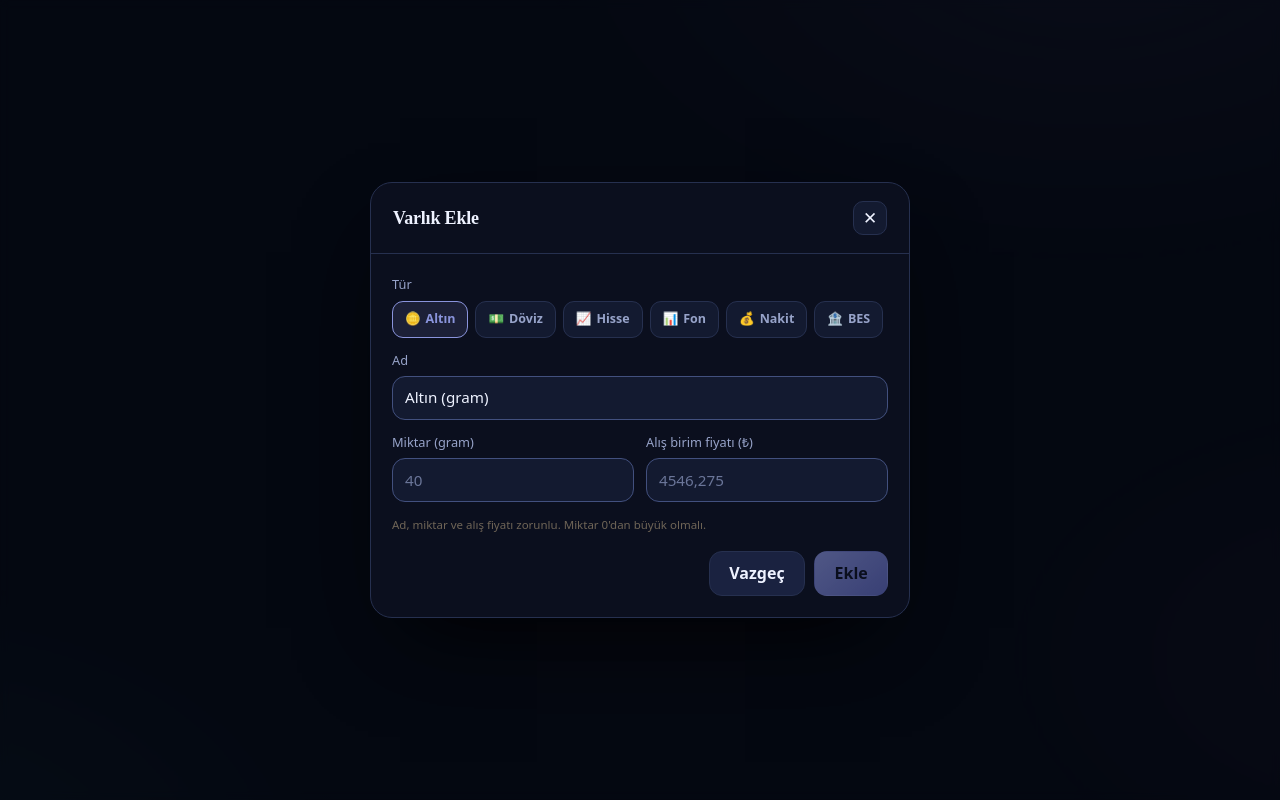
AddHoldingDialog › döviz: USD/EUR seçimi ad ve birimi otomatik ayarlar
Click the radio button labelled "💵 Döviz" at (516, 319), box [476,301,556,338]
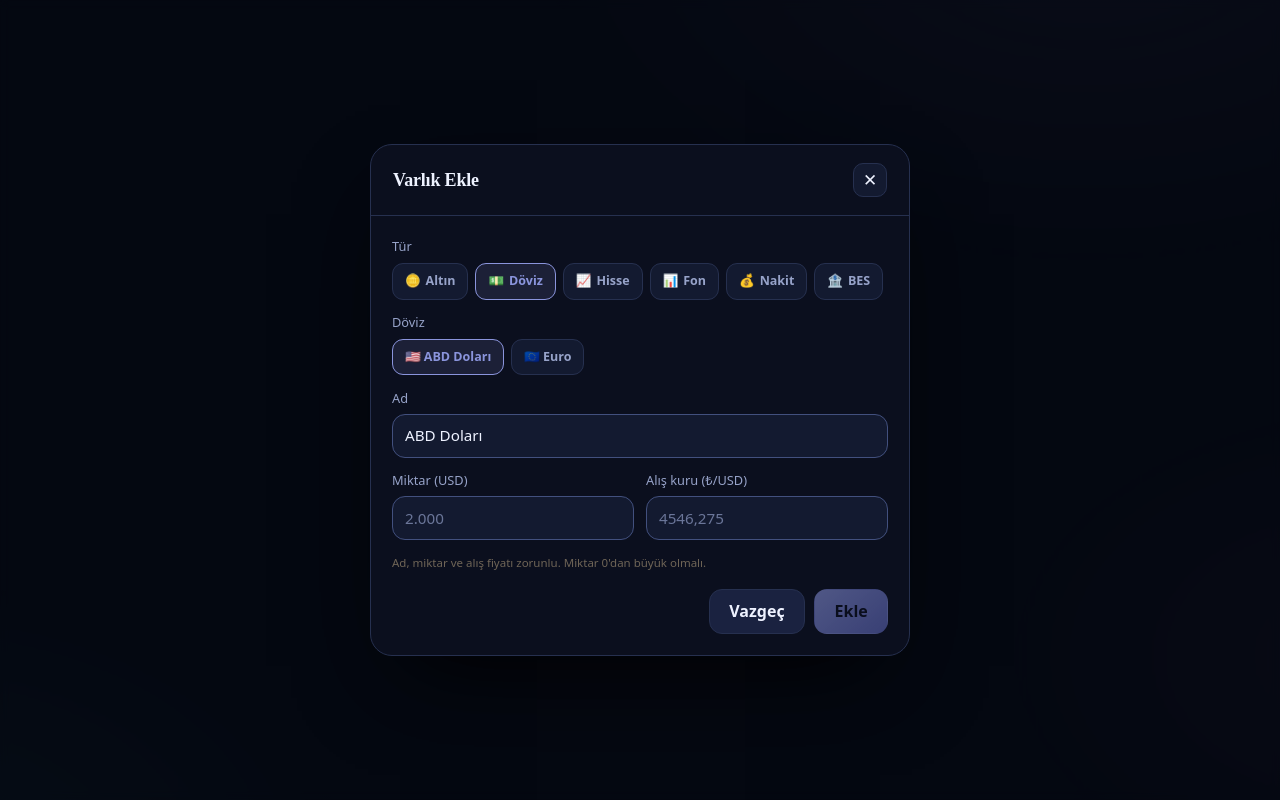
Expected: the field labelled "Miktar (USD)" is shown, [392,496,634,540]
Expected: the field labelled "Ad" holds "ABD Doları", [392,414,888,458]
Click the radio button labelled "🇪🇺 Euro" at (548, 357), box [511,339,584,376]
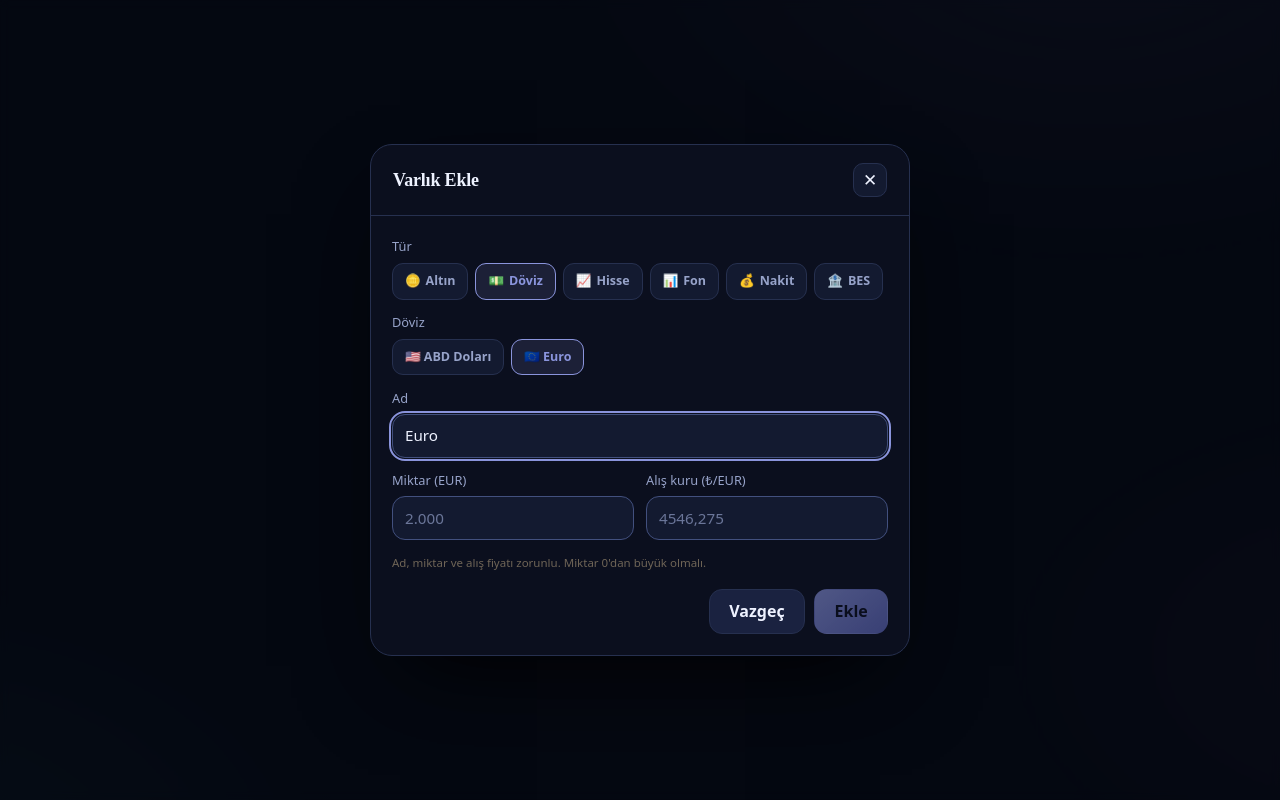
Expected: the field labelled "Miktar (EUR)" is shown, [392,496,634,540]
Expected: the field labelled "Ad" holds "Euro", [392,414,888,458]
